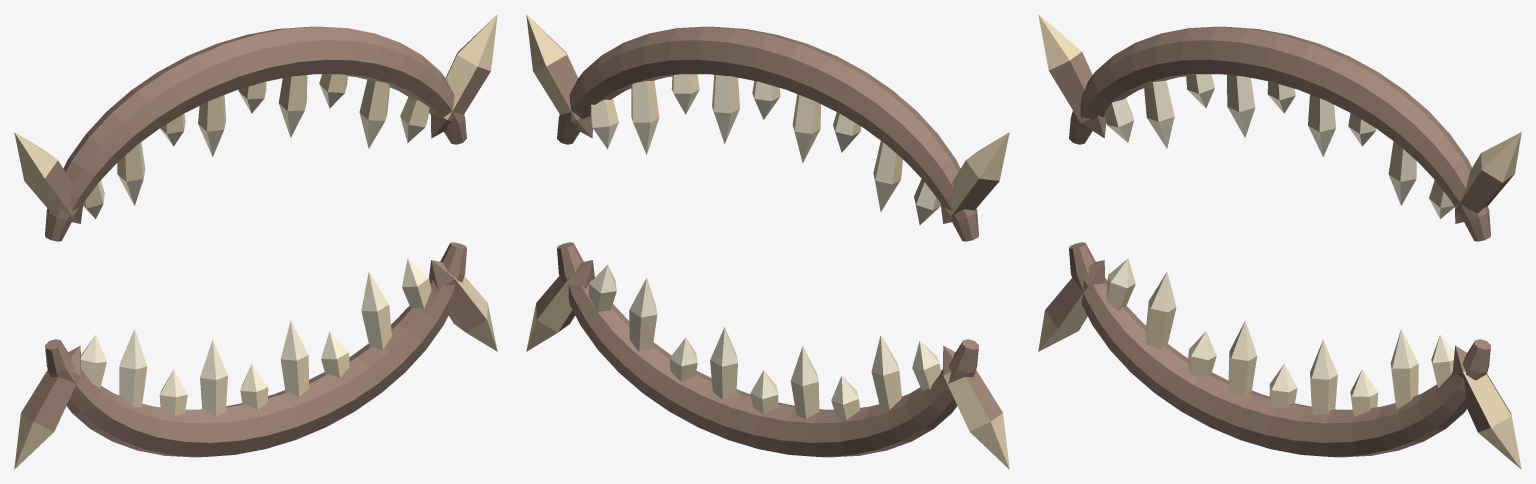
The model's file is VFX_61_OssaFauciDraconiche.fbx.
3 renders of one model, left to right at view 1: azimuth 30°, elevation 25°; view 2: azimuth 150°, elevation 25°; view 3: azimuth 330°, elevation 25°, orthographic.
Visible parts, largest first — view 1: VFX_61_OssaFauciDraconiche; view 2: VFX_61_OssaFauciDraconiche; view 3: VFX_61_OssaFauciDraconiche.
Boxes of the visible parts, x1,y1,x2,y2 form: VFX_61_OssaFauciDraconiche: (14,14,497,469); VFX_61_OssaFauciDraconiche: (526,14,1009,469); VFX_61_OssaFauciDraconiche: (1038,14,1521,469).
Bounding box in the file's own units: 330 × 271 × 30.9.
Materials: 1 (1 with a texture image).
